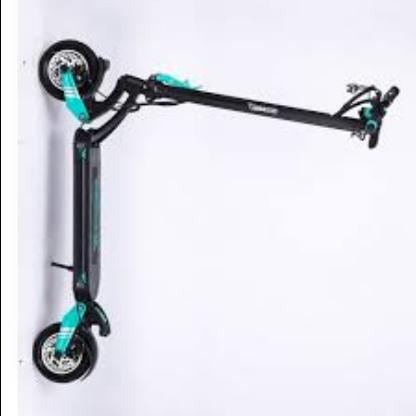bike: (31, 38, 409, 388)
